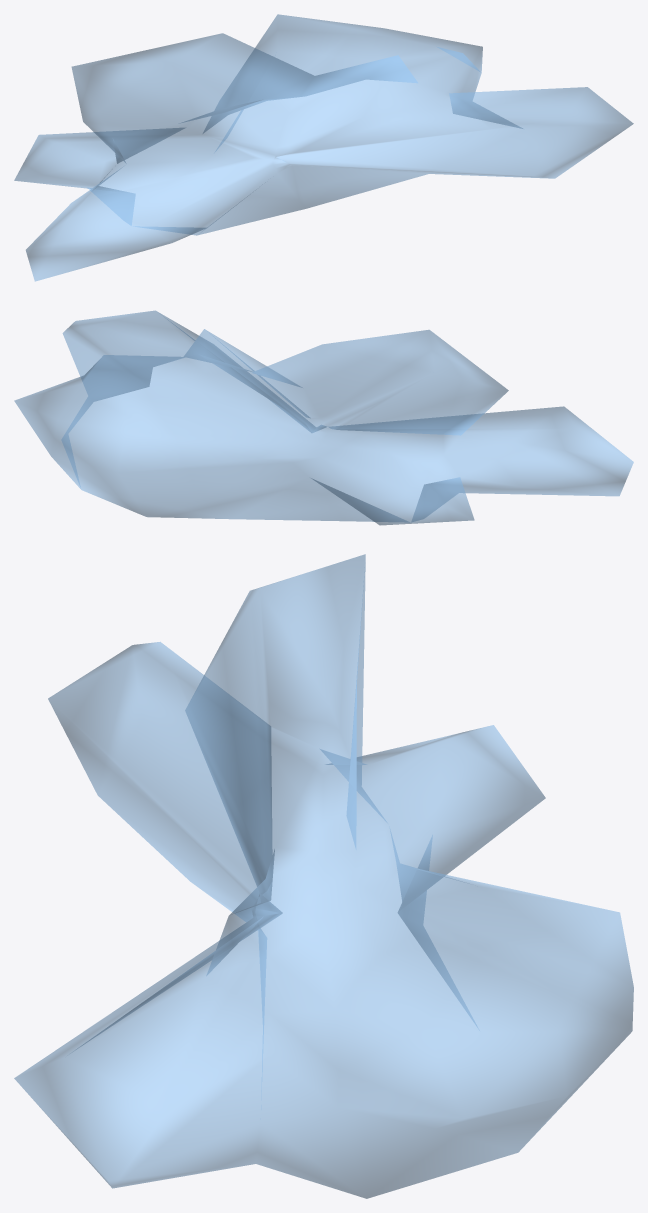
Rendered from tlightind_shield.gltf.
3 views of the same model, one above another, from view 1: azimuth 30°, elevation 25°; view 2: azimuth 150°, elevation 25°; view 3: azimuth 270°, elevation 25° (orthographic). The views are drawn at different scales.
Visible parts, largest first — view 1: tlightind.shield; view 2: tlightind.shield; view 3: tlightind.shield.
Part boxes in pixels (<box>): tlightind.shield: <box>14,14,633,281</box>; tlightind.shield: <box>14,310,633,525</box>; tlightind.shield: <box>14,554,633,1198</box>.
Bounding box in the file's own units: 41.85 × 12.66 × 21.32.
